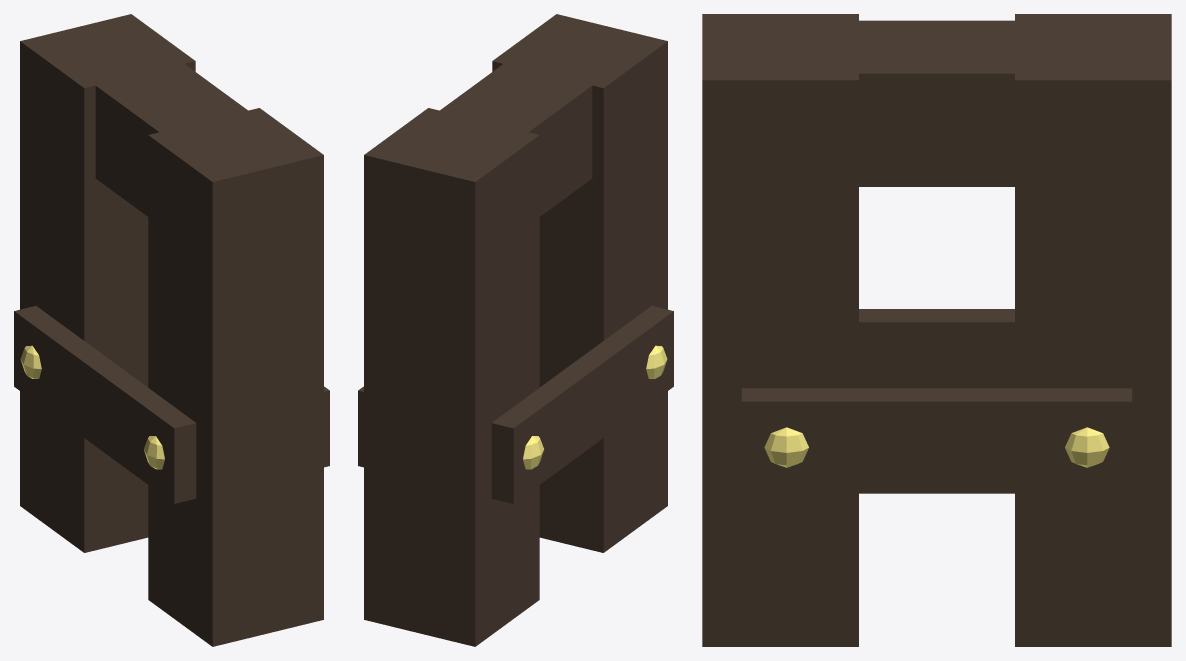
The model's file is Pillars.fbx.
3 renders of one model, left to right at view 1: azimuth 30°, elevation 25°; view 2: azimuth 150°, elevation 25°; view 3: azimuth 270°, elevation 25°, orthographic. The views are drawn at different scales.
Parts seen in each view (by area): view 1: Wood Pillar; view 2: Wood Pillar; view 3: Wood Pillar.
Part boxes in pixels (x1=…): Wood Pillar: x1=14, y1=14, x2=329, y2=646; Wood Pillar: x1=358, y1=14, x2=673, y2=646; Wood Pillar: x1=702, y1=14, x2=1171, y2=646.
Bounding box in the file's own units: 156 × 400 × 300.
